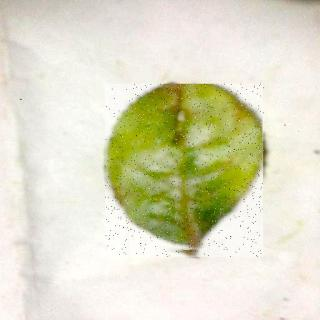Red Leaf Spot: (107, 85, 266, 258)
